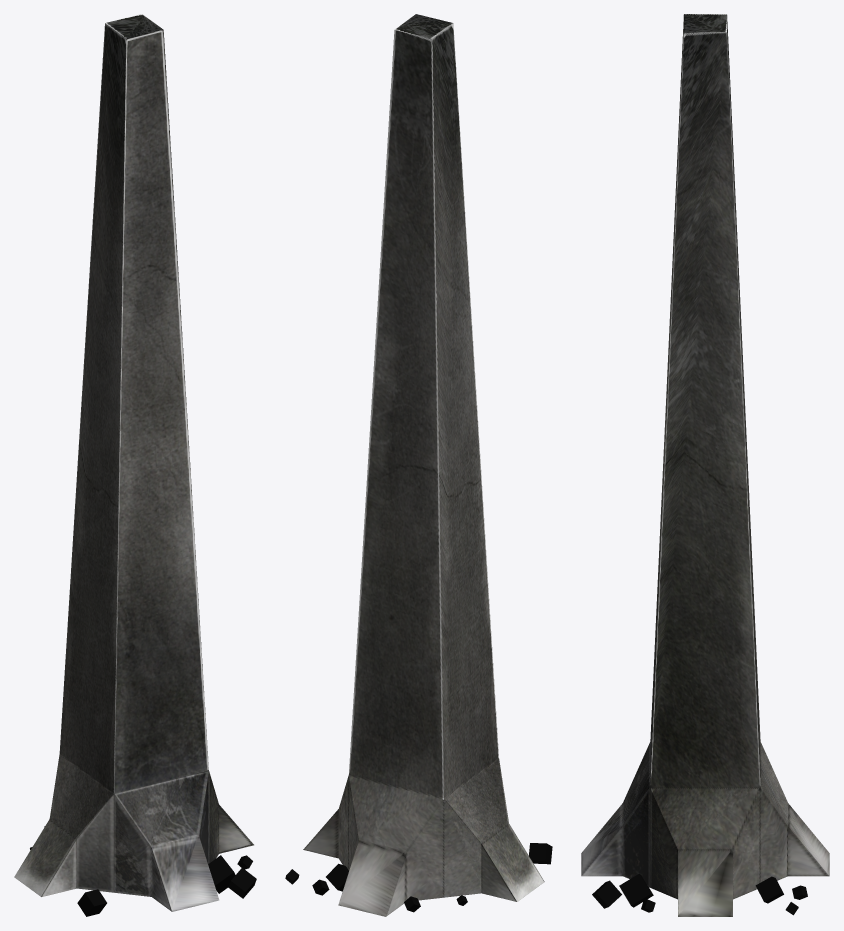
File: rubble_pillar.obj
The picture shows the model from 3 angles, left to right: view 1: azimuth 30°, elevation 25°; view 2: azimuth 150°, elevation 25°; view 3: azimuth 270°, elevation 25°; orthographic projection.
Parts seen in each view (by area): view 1: Cube_Cube.001; view 2: Cube_Cube.001; view 3: Cube_Cube.001.
Part boxes in pixels (x1,y1,x2,y2): Cube_Cube.001: (14,14,256,916); Cube_Cube.001: (285,14,552,916); Cube_Cube.001: (581,14,829,916).
Size of the model in its own units: 4.5 by 17.23 by 4.5.
Materials: 2 (2 with a texture image).
